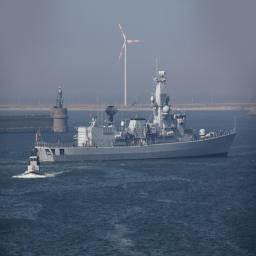Fragata: (34, 57, 239, 167)
